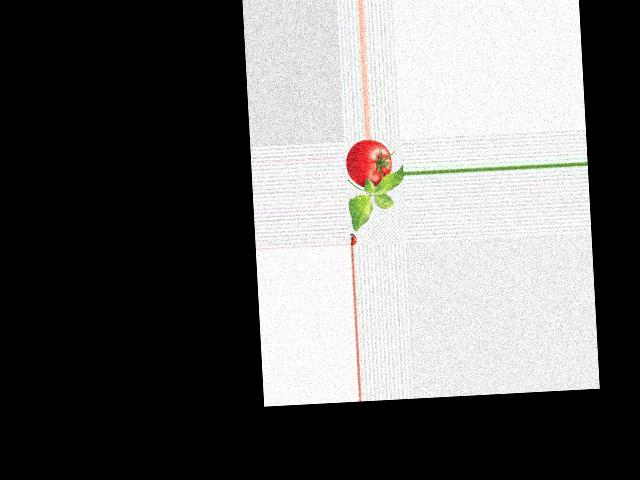tomato: (344, 138, 392, 188)
